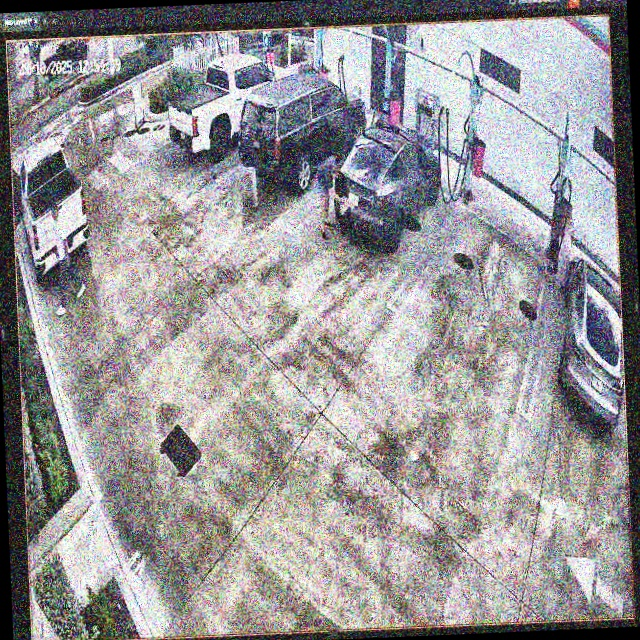Car: (239, 73, 369, 196), (334, 119, 444, 257), (169, 56, 295, 164)
